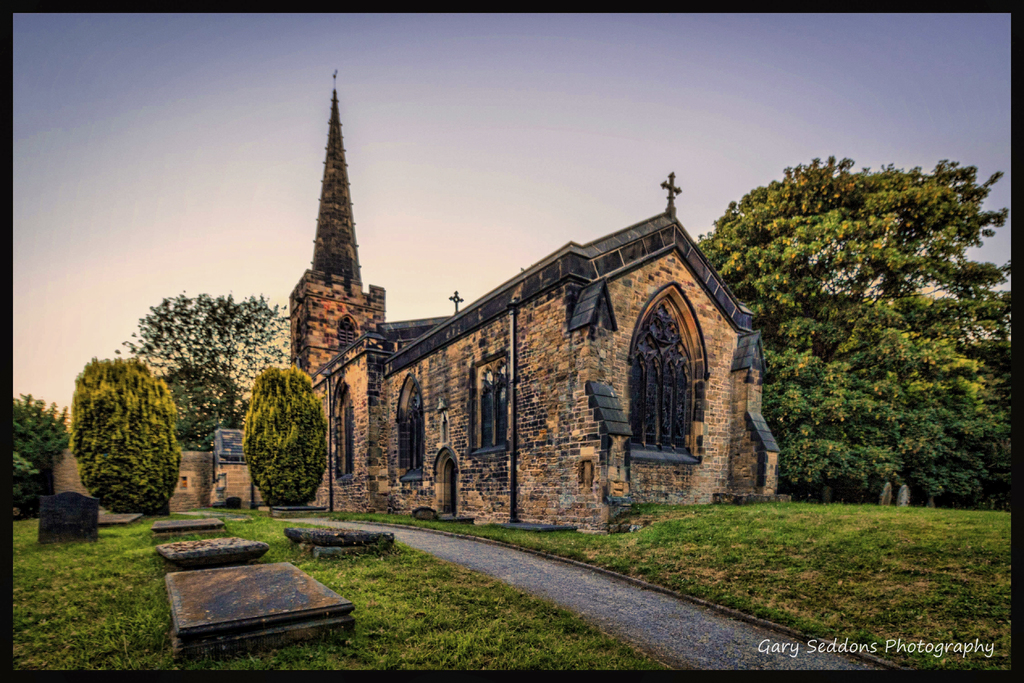Tree: (716, 128, 1009, 513), (117, 295, 291, 452), (10, 391, 67, 525)
